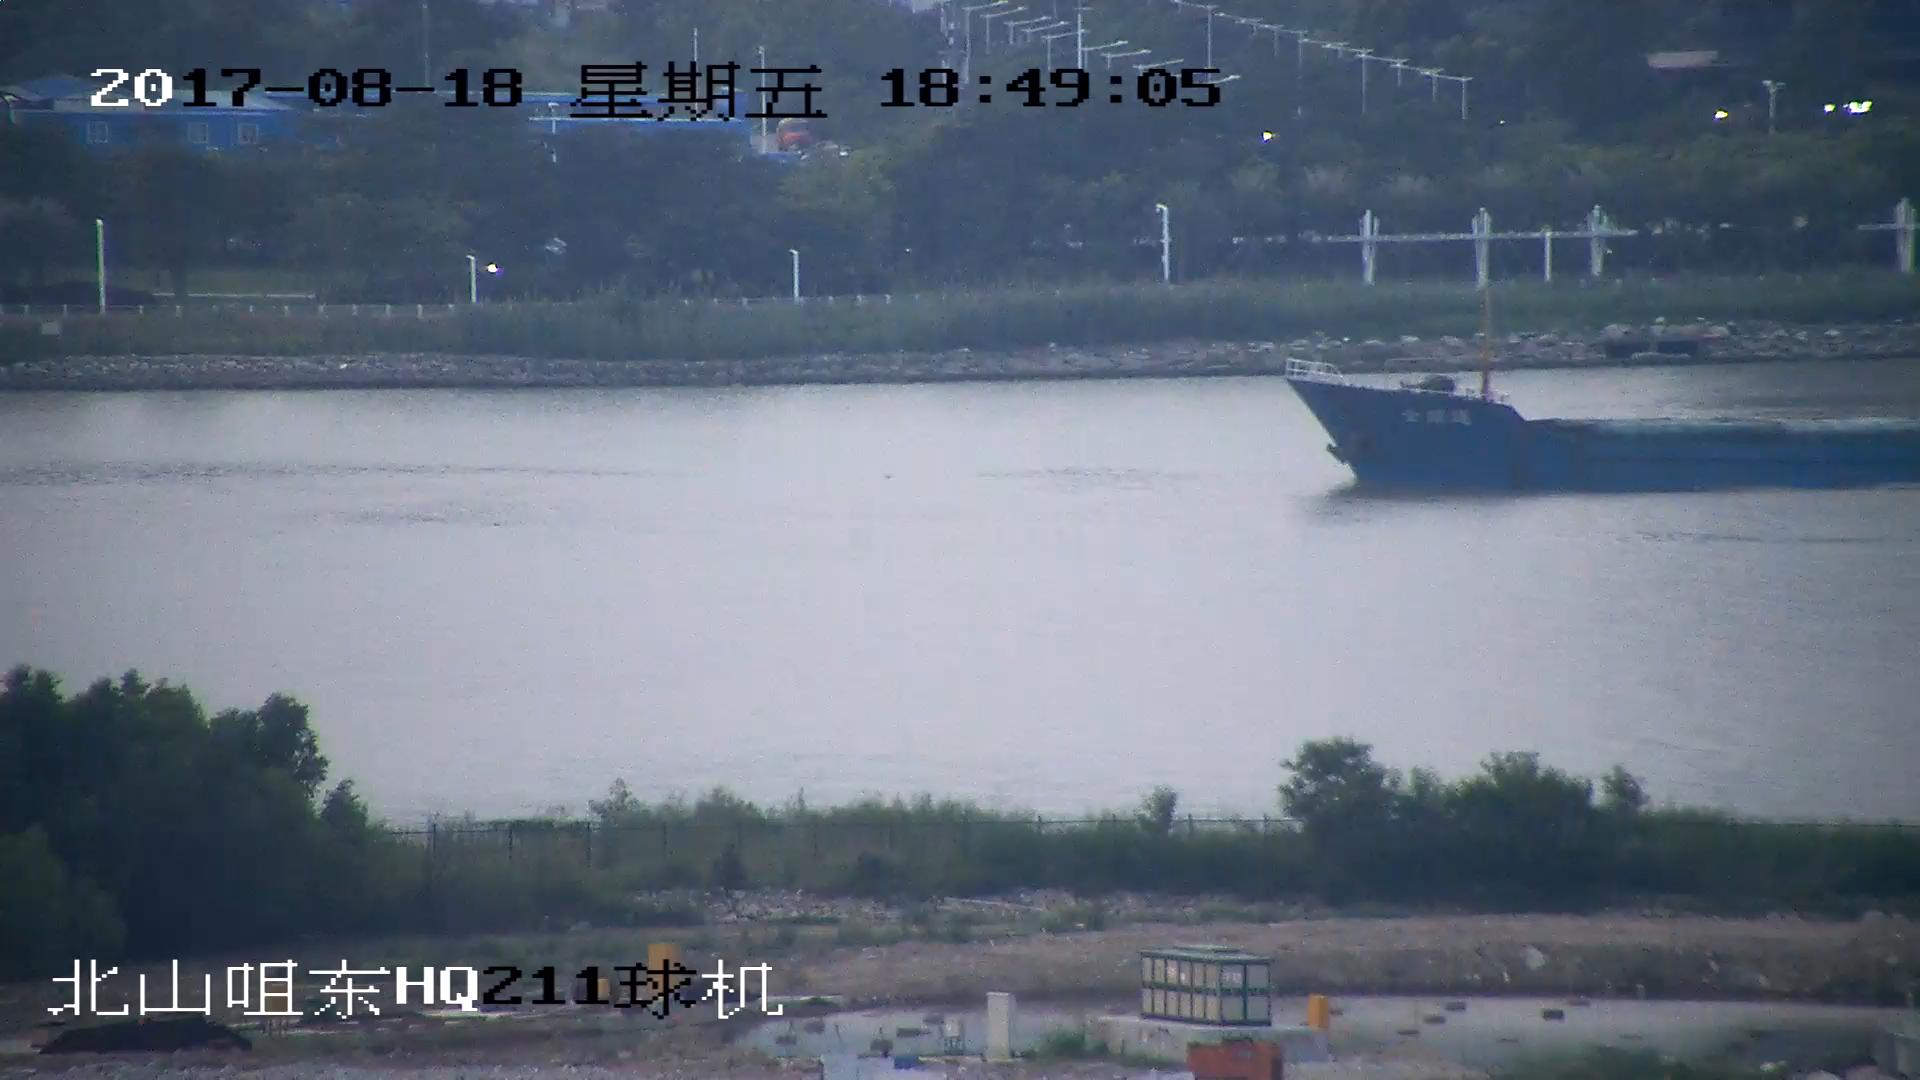general cargo ship: (1283, 353, 1920, 489)
